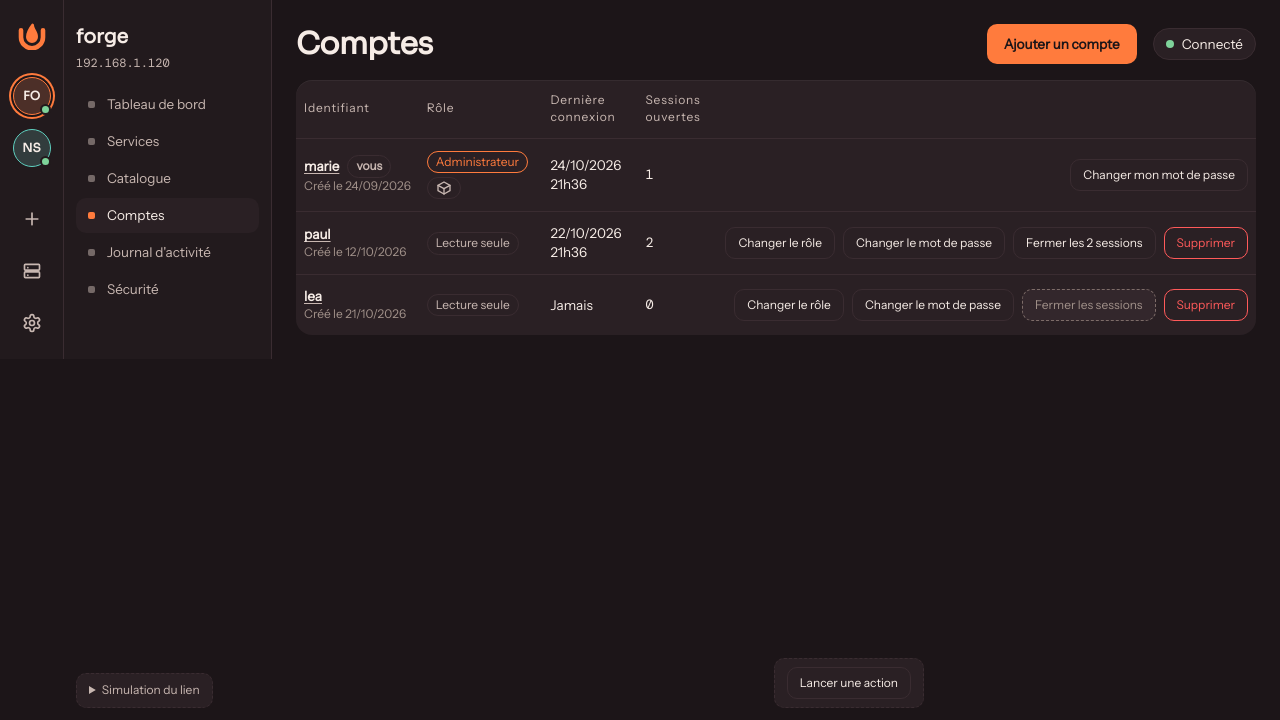
Test case: Comptes (administrateurs) › changes a role from the dropdown and announces it
The width and height of the screenshot is (1280, 720).
Click the button "Changer le rôle" in the row of "Créé le 12/10/2026" at (780, 243), box [725,227,835,259]
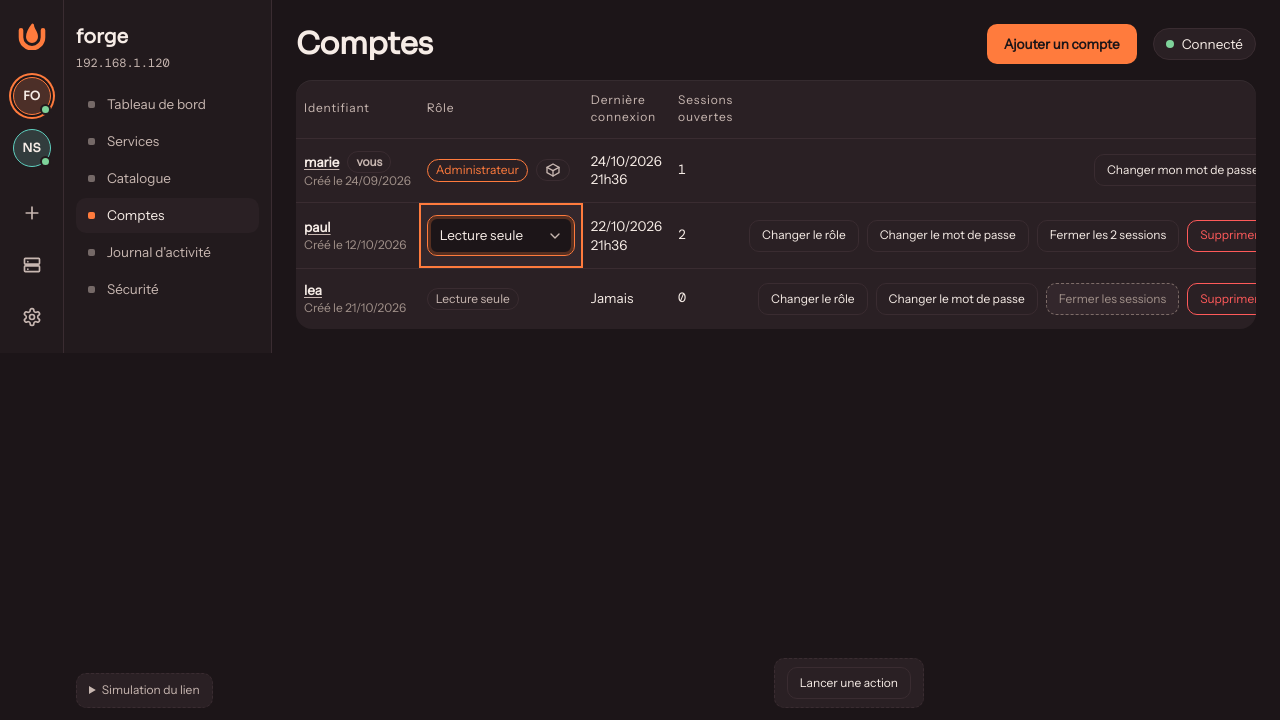
Select "Administrateur" in the dropdown at (501, 236), box [427,215,575,256]
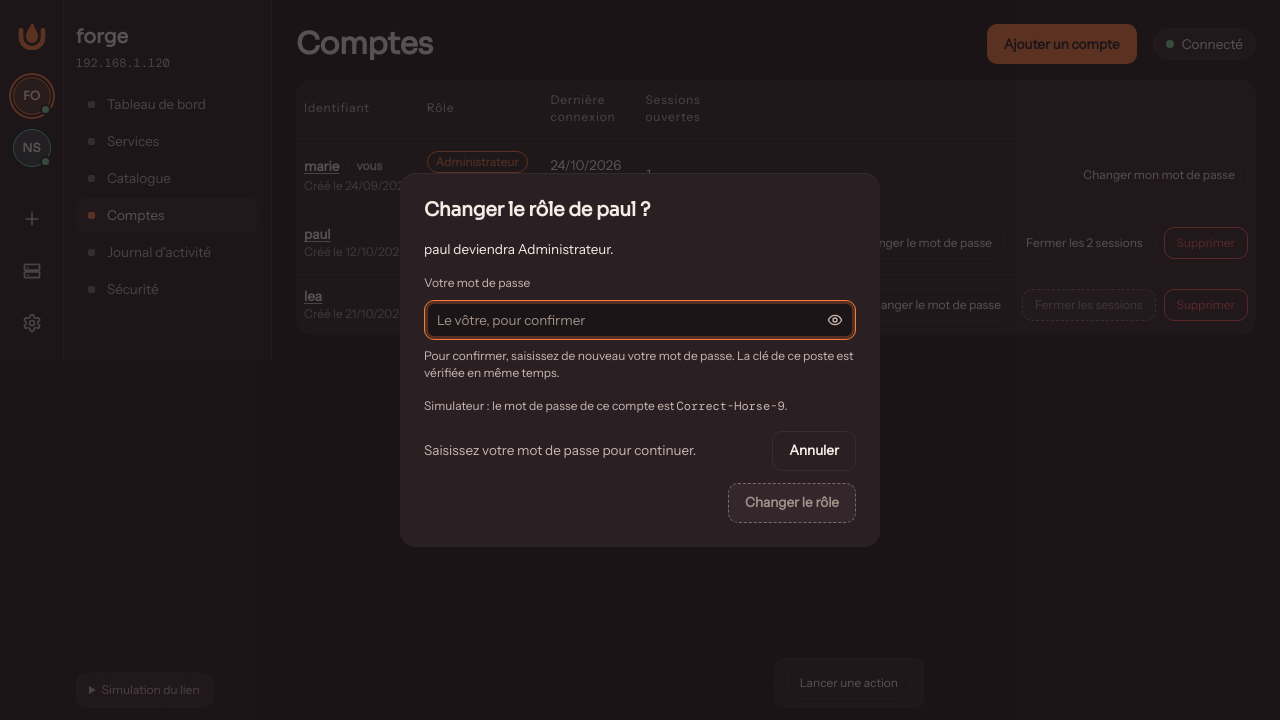
Check: the text "Changer le rôle de paul ?" is shown, box [424,198,650,222]
Type "Correct-Horse-9" into the password field labelled "Votre mot de passe" at (620, 320), box [425,300,815,339]
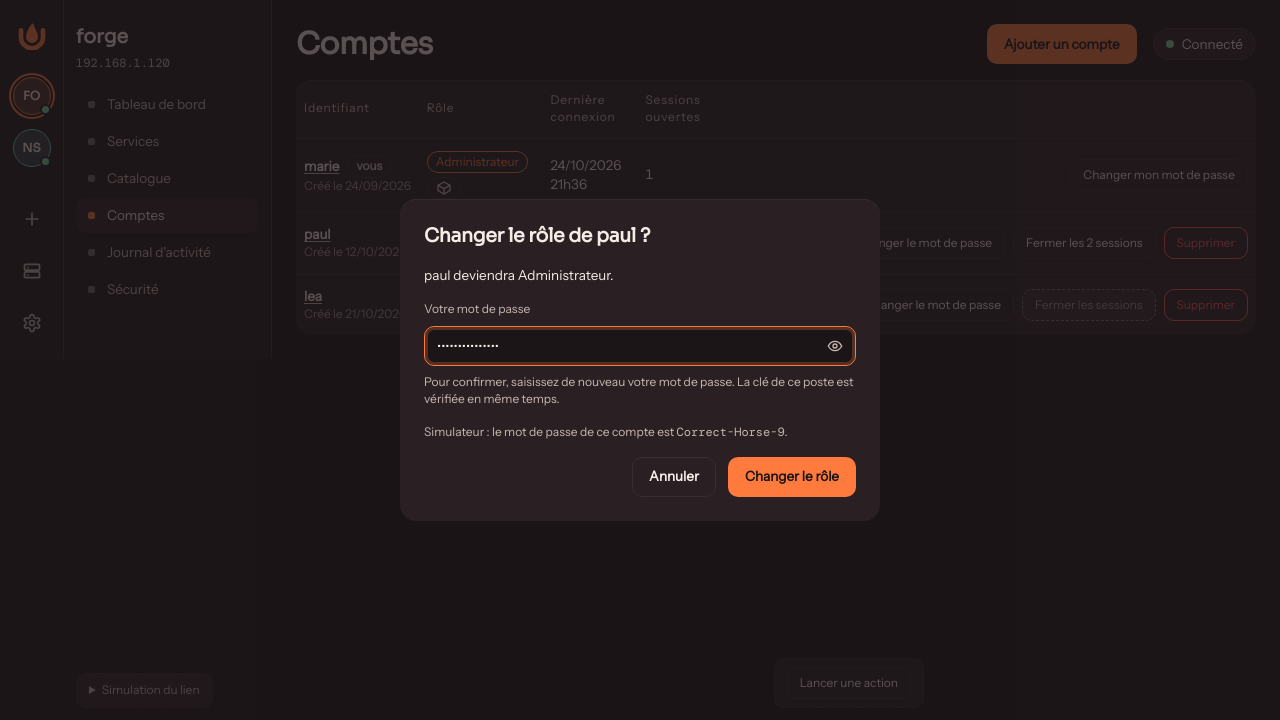
Click the button "Changer le rôle" at (792, 477), box [728,457,856,497]
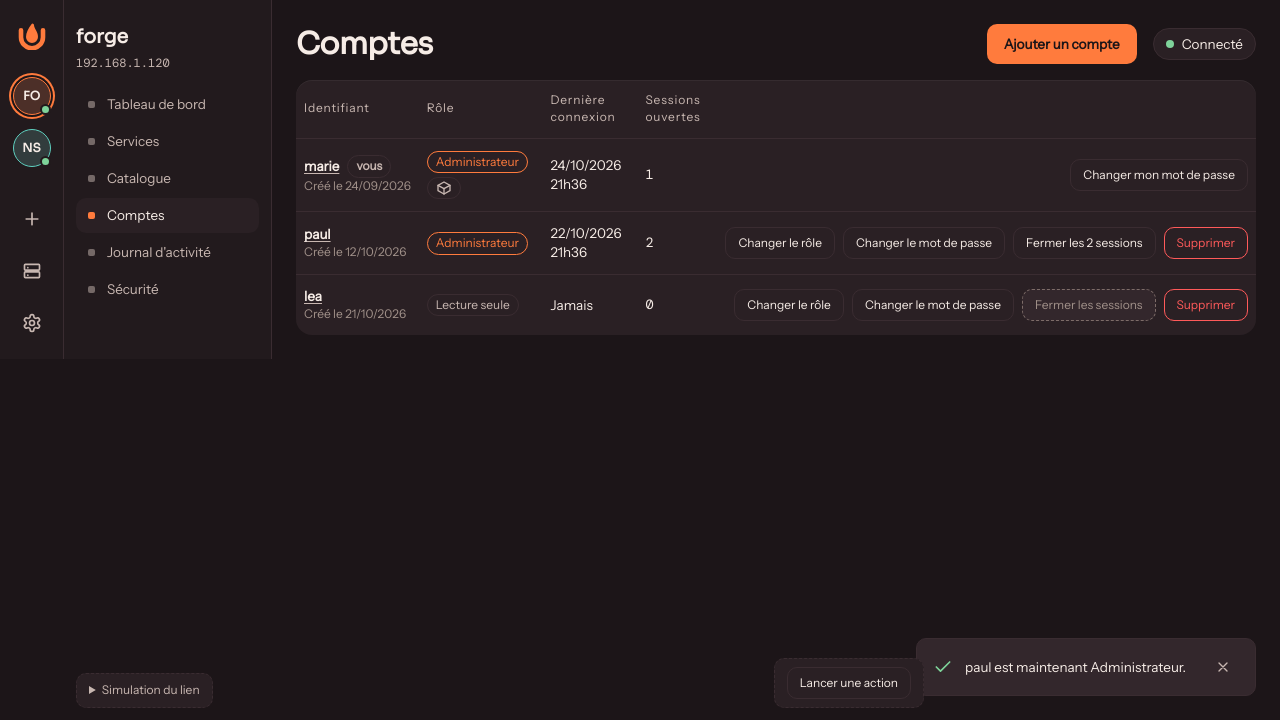
Check: the cell "Administrateur" next to "Créé le 12/10/2026" is shown, box [436,235,519,250]
